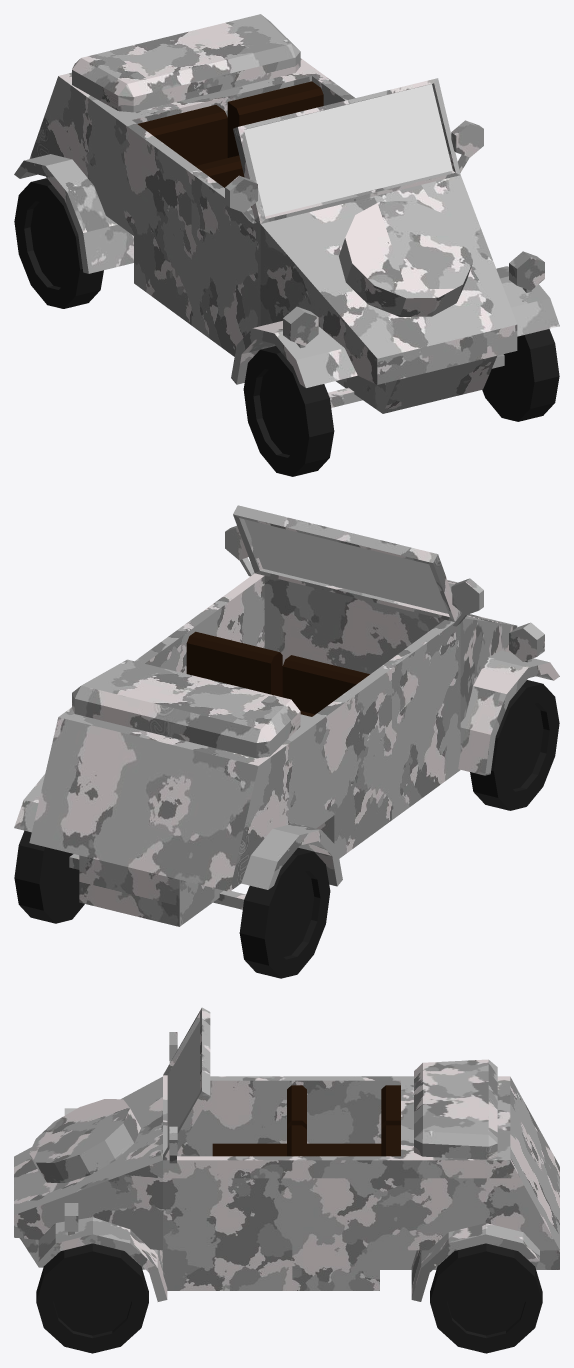
File: 차륜형.fbx
The picture shows the model from 3 angles, top to bottom: view 1: azimuth 30°, elevation 25°; view 2: azimuth 150°, elevation 25°; view 3: azimuth 270°, elevation 25°; orthographic projection. The views are drawn at different scales.
Parts seen in each view (by area): view 1: 차륜형; view 2: 차륜형; view 3: 차륜형.
Boxes of the visible parts, x1=… form: 차륜형: x1=14, y1=14, x2=559, y2=476; 차륜형: x1=14, y1=505, x2=559, y2=978; 차륜형: x1=14, y1=1007, x2=559, y2=1353.
Size of the model in its own units: 254 by 280 by 550.
